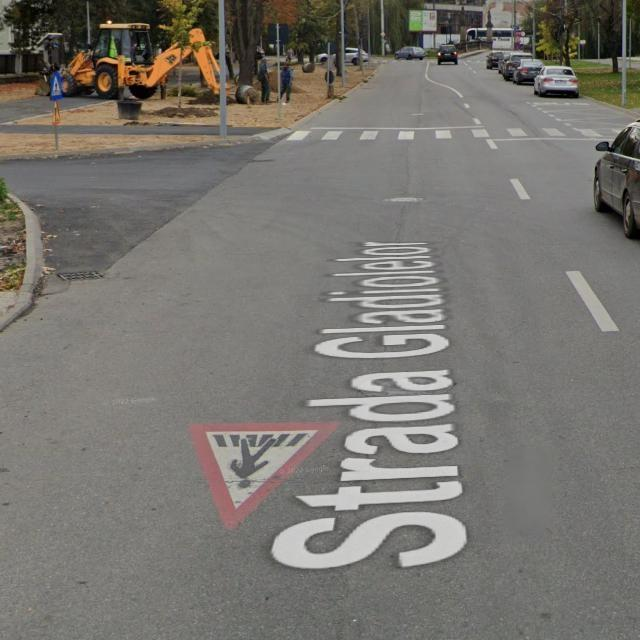warn_crosswalk: (189, 420, 339, 533)
